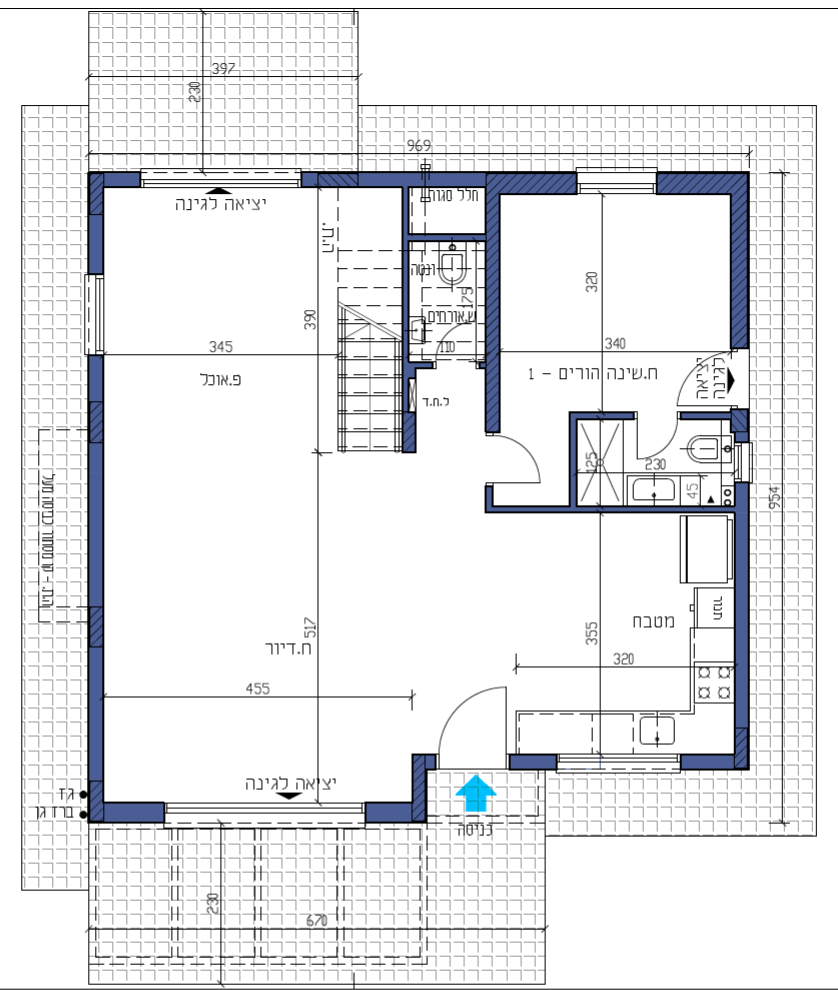door: (425, 681, 517, 743), (671, 355, 722, 409), (504, 434, 548, 491), (633, 423, 678, 464)
wall: (486, 173, 499, 430), (731, 175, 749, 349), (87, 444, 105, 605), (737, 485, 747, 732), (358, 173, 486, 188), (89, 647, 102, 779), (486, 174, 575, 193), (487, 506, 748, 512), (660, 175, 729, 192), (403, 173, 408, 384), (105, 804, 163, 822), (569, 412, 578, 511), (368, 805, 412, 820), (87, 402, 102, 444), (683, 756, 733, 768), (89, 356, 103, 395), (89, 607, 103, 646), (512, 757, 554, 768), (403, 412, 415, 450)
window: (164, 797, 365, 832), (556, 747, 682, 776), (139, 168, 303, 189), (576, 164, 658, 198), (83, 274, 112, 356), (732, 444, 757, 483)
